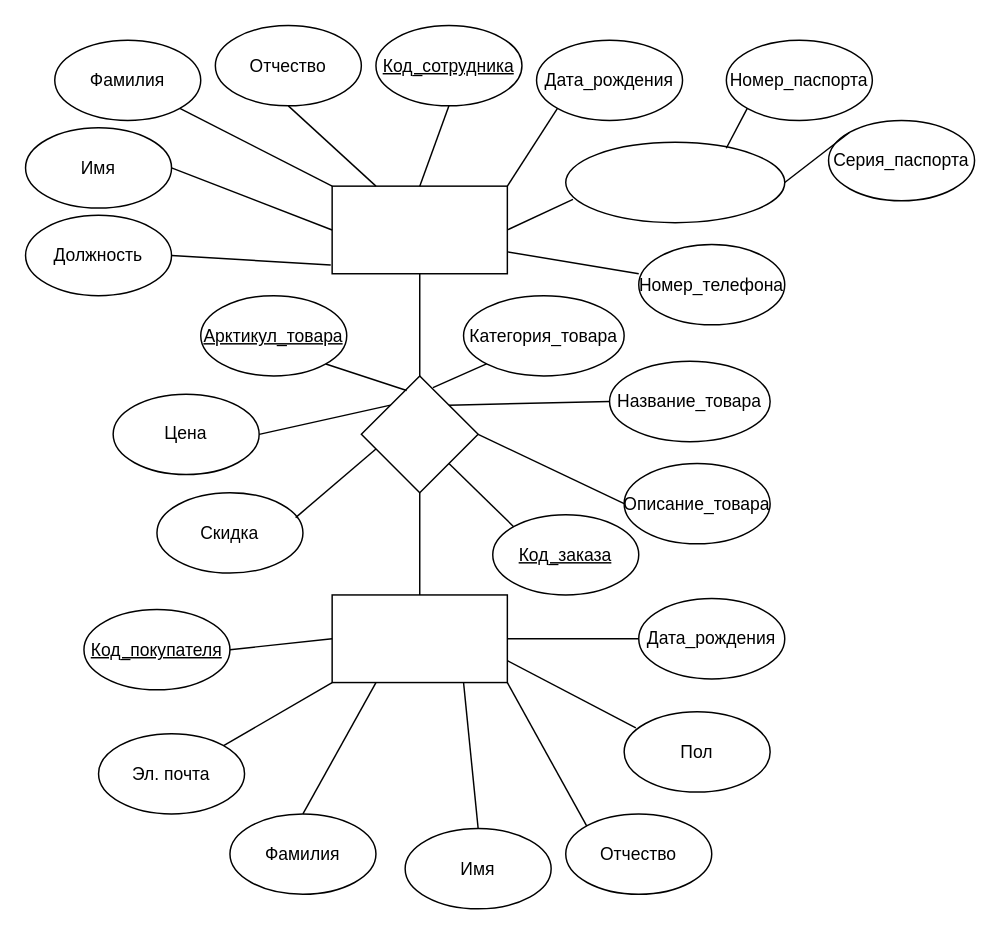
Some shapes in this 1000 by 934 pixel diagram are drawn without their labels. The centre of each missing label's shape, as x and y in pixels:
Паспортные_данные: (x=674, y=182)
Покупатель: (x=419, y=638)
Продажа: (x=419, y=433)
Сотрудник: (x=419, y=229)
